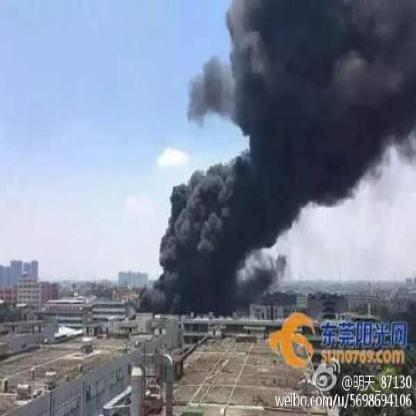smoke: (138, 140, 288, 314), (232, 0, 414, 142), (288, 144, 388, 218), (181, 50, 233, 122)
